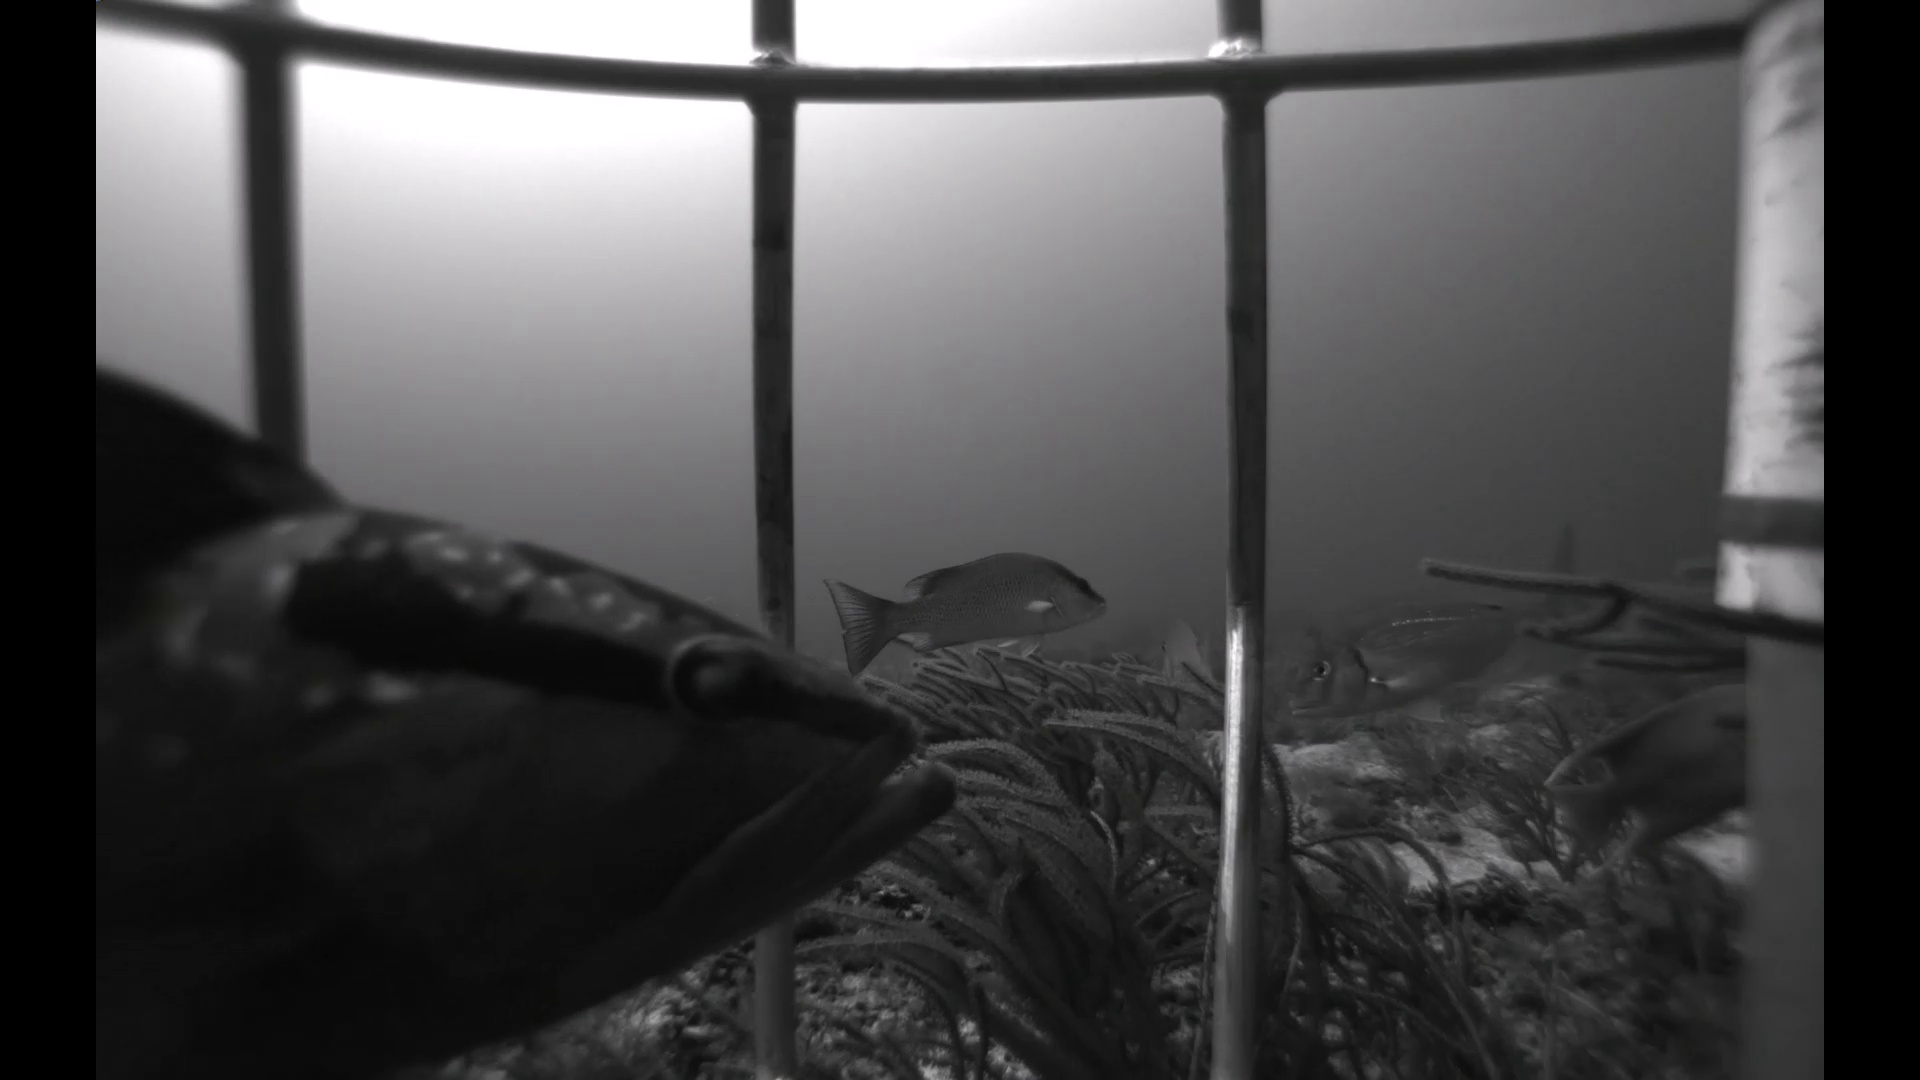CALAMUSNODOSUS-170210608: (1150, 611, 1221, 688)
EPINEPHELUSMORIO-170021211: (102, 357, 978, 1077)
HOLACANTHUSBERMUDENSIS-170290102: (1528, 687, 1743, 893)
LUTJANUSGRISEUS-170151109: (816, 549, 1116, 680), (1440, 589, 1664, 705)
PAGRUSPAGRUS-170212302: (1280, 512, 1601, 760)
